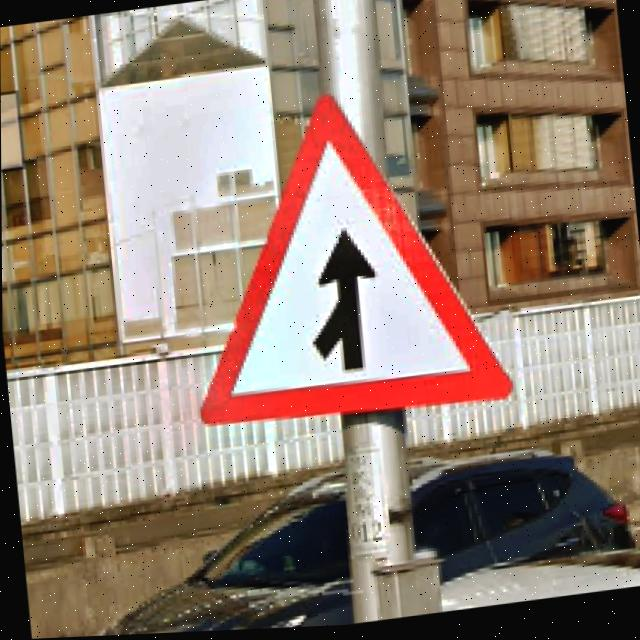leftmerge: (199, 100, 511, 426)
